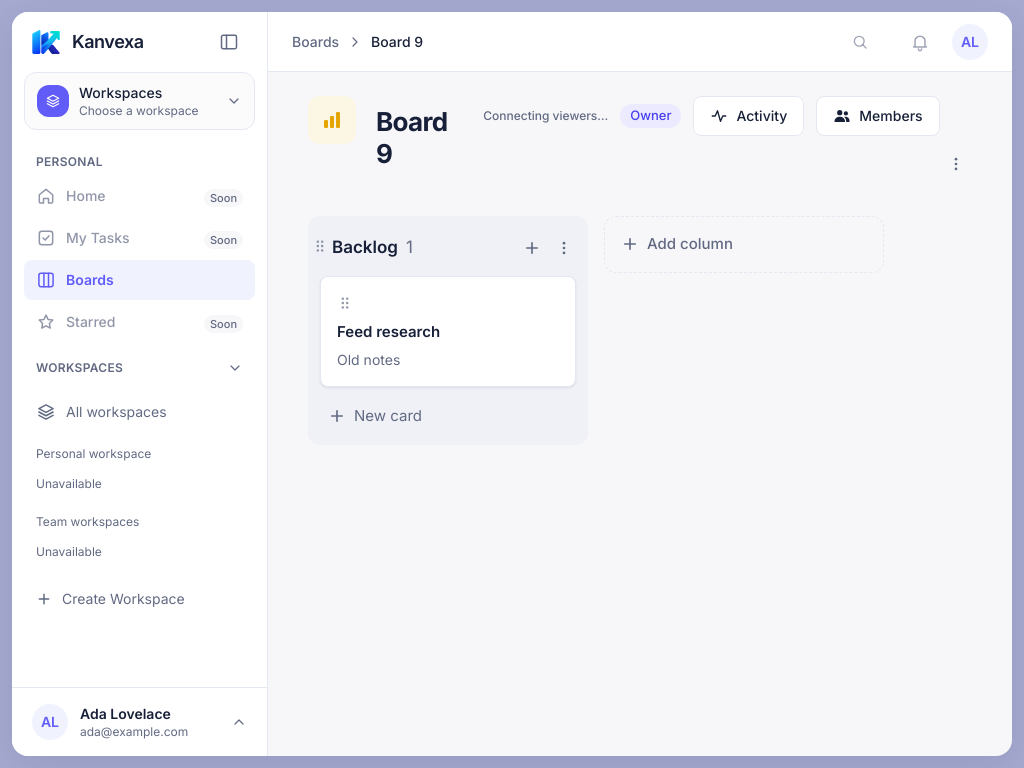
Scenario: card detail › shows the card with its column, keeping Save off until something changes
This screenshot has width=1024, height=768.
Click the button "Feed research": {"x": 389, "y": 332} [337, 321, 440, 344]
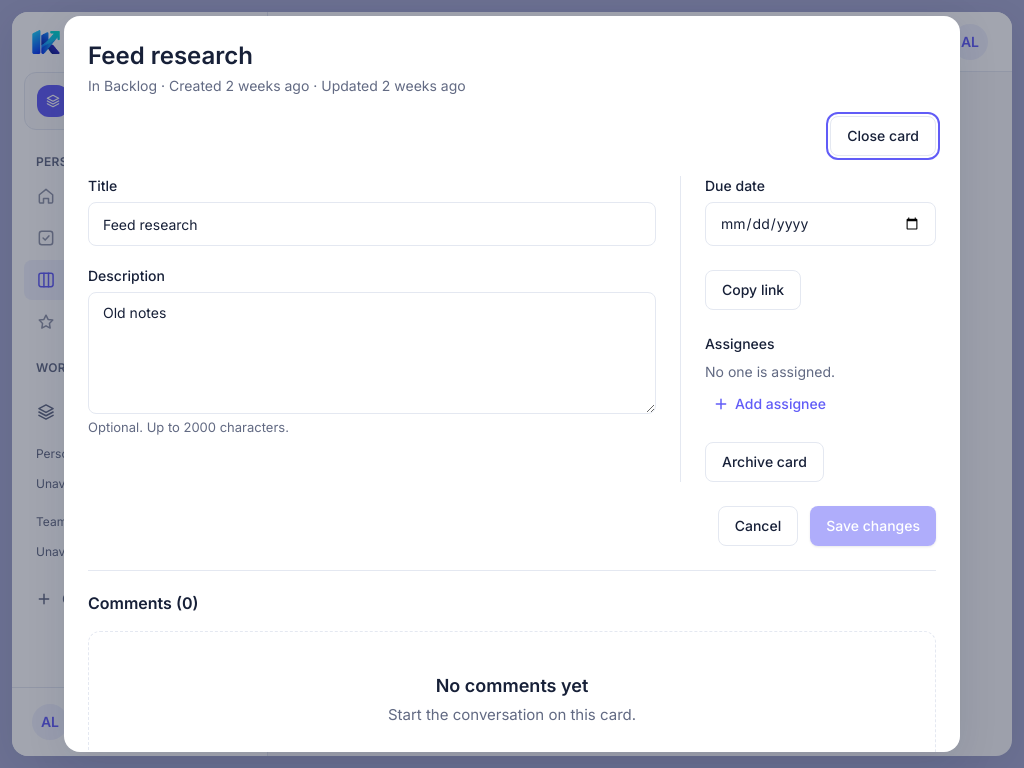
Expected: the text "In Backlog · Created 2 weeks ago · Updated 2 weeks ago" is shown, [88, 77, 466, 94]
Expected: the field labelled "Title" holds "Feed research", [88, 202, 656, 246]
Expected: the text box labelled "Description" holds "Old notes", [88, 292, 656, 414]
